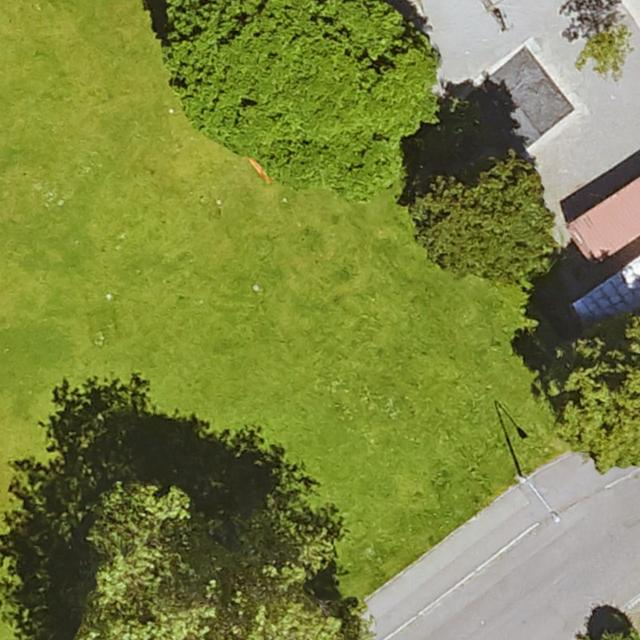tree: (162, 0, 433, 189), (74, 489, 362, 640), (413, 160, 551, 274), (544, 320, 640, 466), (576, 29, 634, 72), (598, 626, 640, 640)
